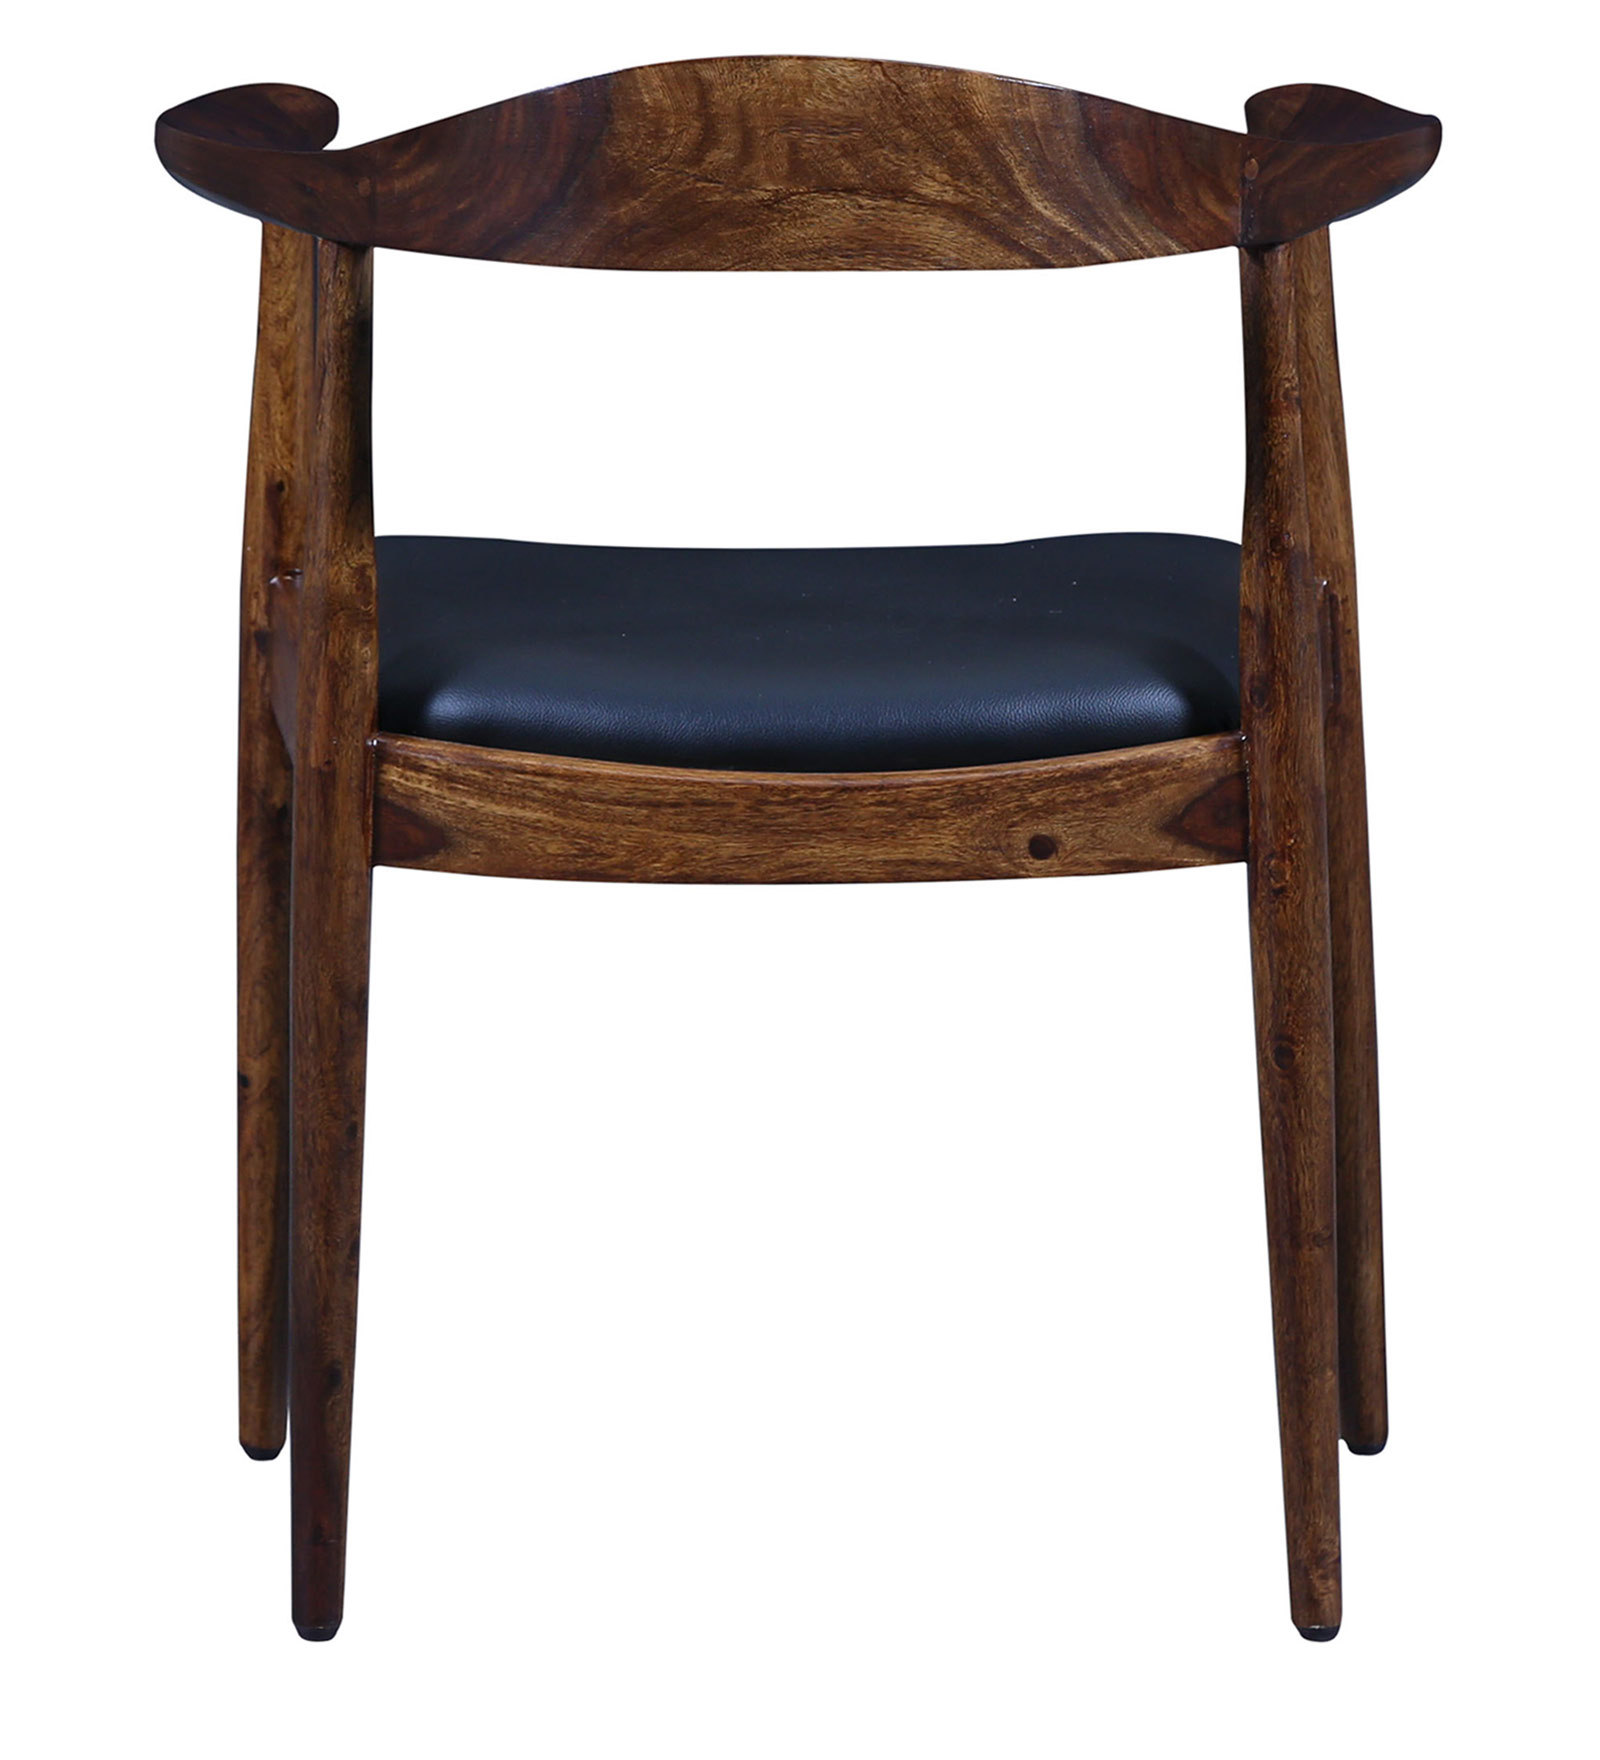Esvelt Arm Chair in Provincial Teak Finish by Woodsworth: (126, 28, 1507, 1723)
